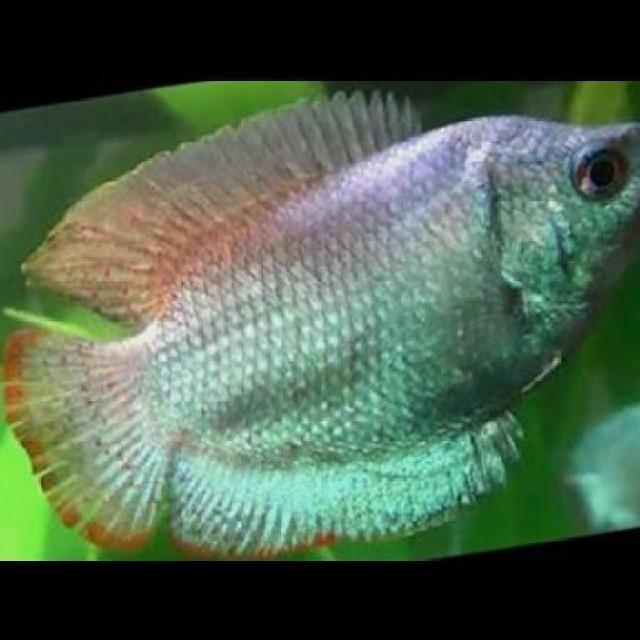Gourami: (0, 89, 638, 561)
